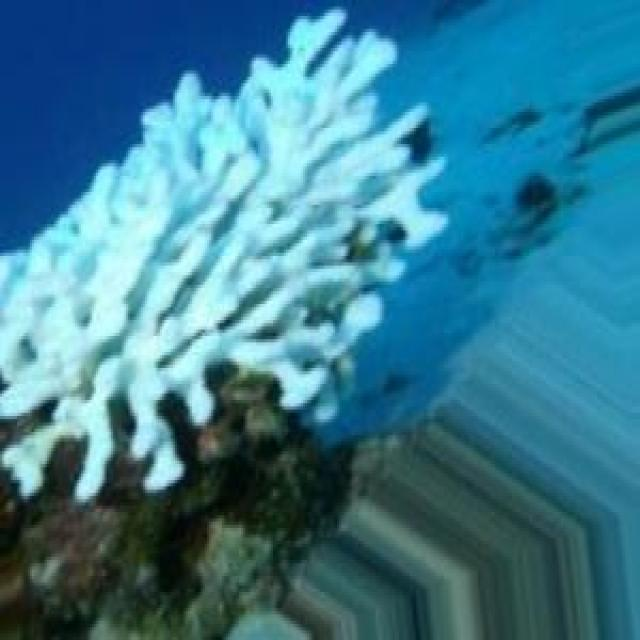Bleached: (1, 11, 447, 497)
